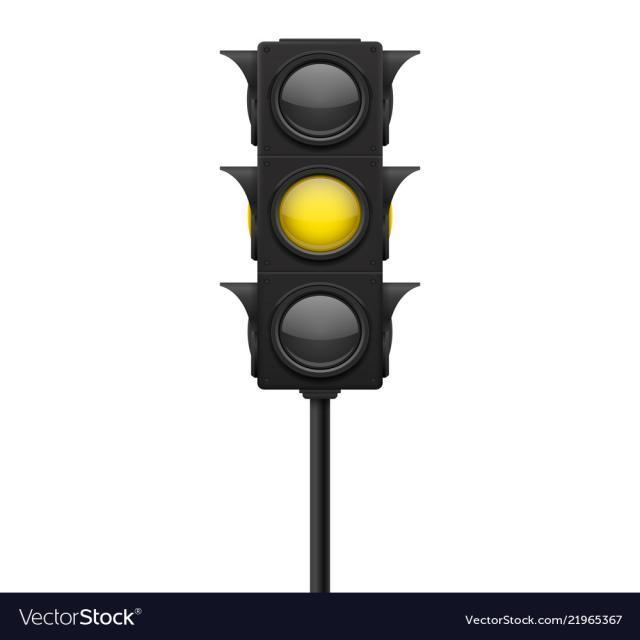yellow_light: (220, 39, 417, 400)
